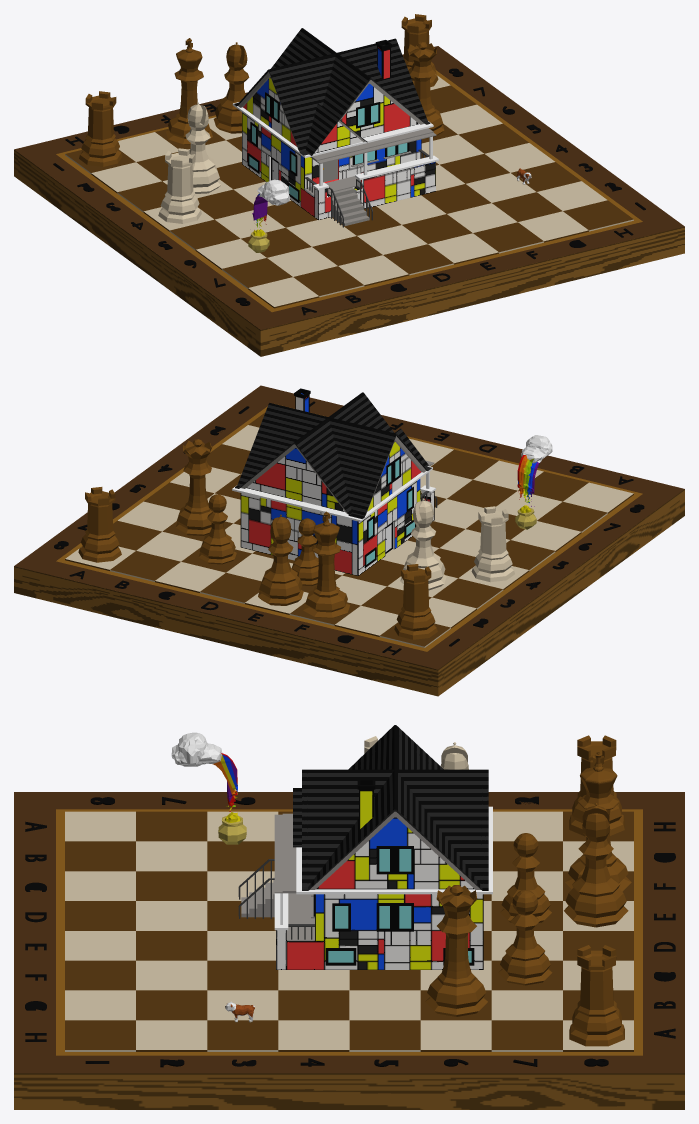
3 views of the same model, one above another, from view 1: azimuth 30°, elevation 25°; view 2: azimuth 150°, elevation 25°; view 3: azimuth 270°, elevation 25° (orthographic). The views are drawn at different scales.
Parts seen in each view (by area): view 1: Cube.002, Cube.840, OBJRANDOM_RAINBOW; view 2: Cube.002, Cube.840, OBJRANDOM_RAINBOW; view 3: Cube.002, Cube.840, OBJRANDOM_RAINBOW.
Part boxes in pixels (x1,y1,x2,y2): Cube.002: [14, 14, 684, 356]; Cube.840: [232, 28, 438, 227]; OBJRANDOM_RAINBOW: [248, 179, 290, 252]; Cube.002: [14, 385, 684, 696]; Cube.840: [232, 388, 437, 575]; OBJRANDOM_RAINBOW: [515, 435, 552, 529]; Cube.002: [14, 735, 684, 1109]; Cube.840: [238, 725, 492, 969]; OBJRANDOM_RAINBOW: [171, 732, 246, 844].
Bounding box in the file's own units: 3981 × 1588 × 4012.
32 materials, 3 textured.
